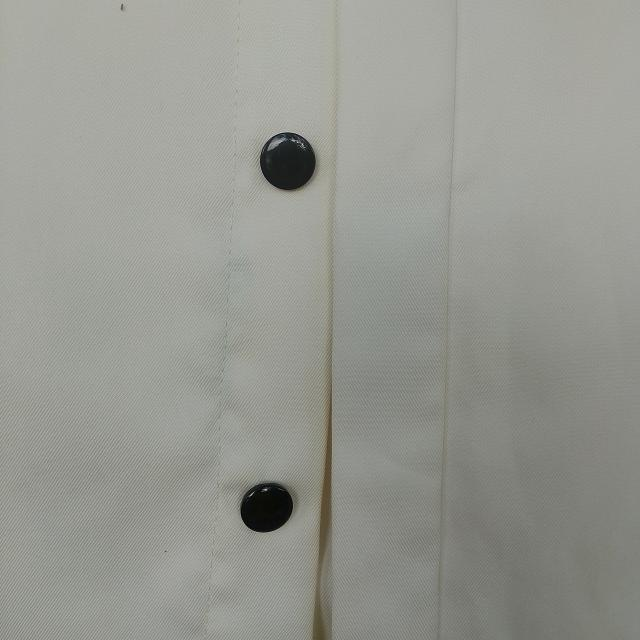education_male_uniform: (66, 60, 482, 581)
